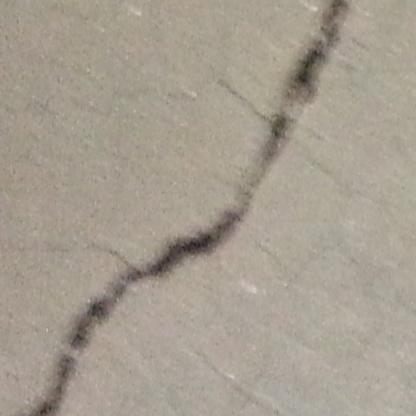Cracks: (3, 111, 297, 416), (280, 0, 359, 111)
